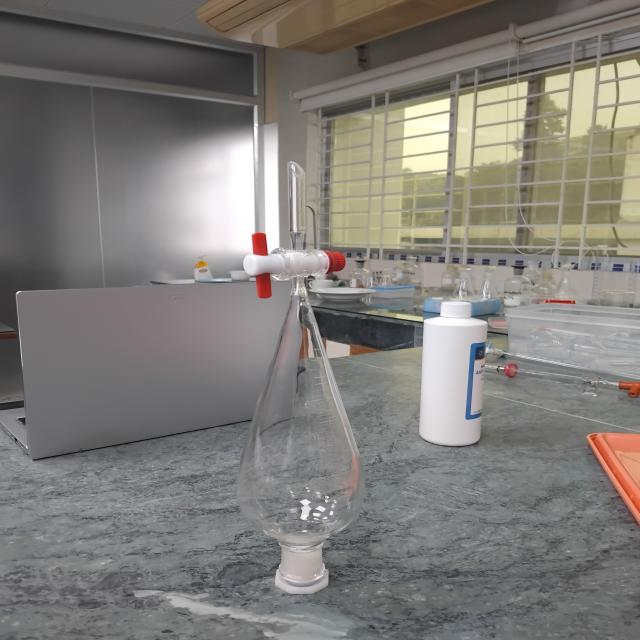Separating_Funnel: (204, 141, 407, 616)
